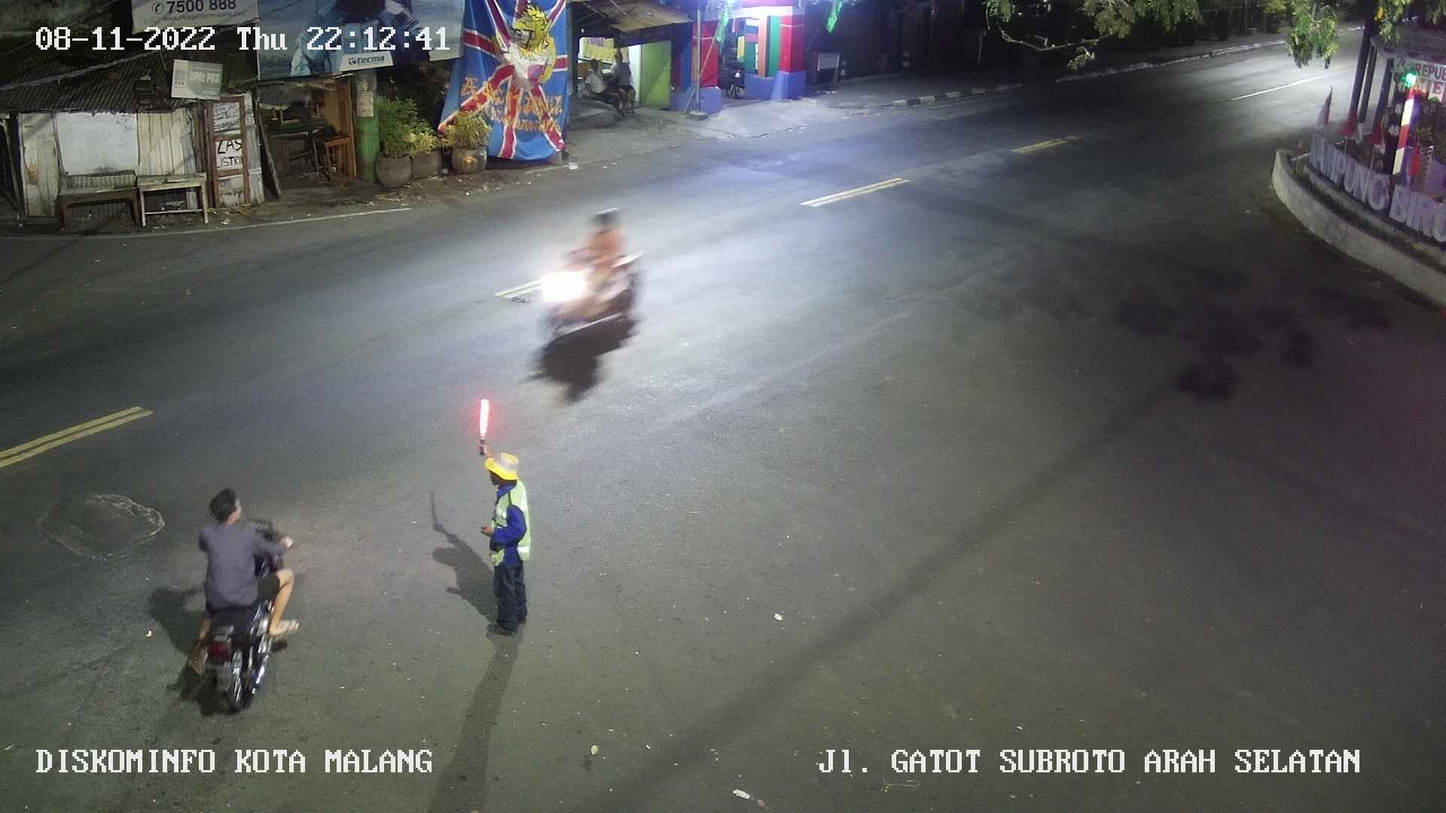without_helmet: (155, 475, 318, 726)
